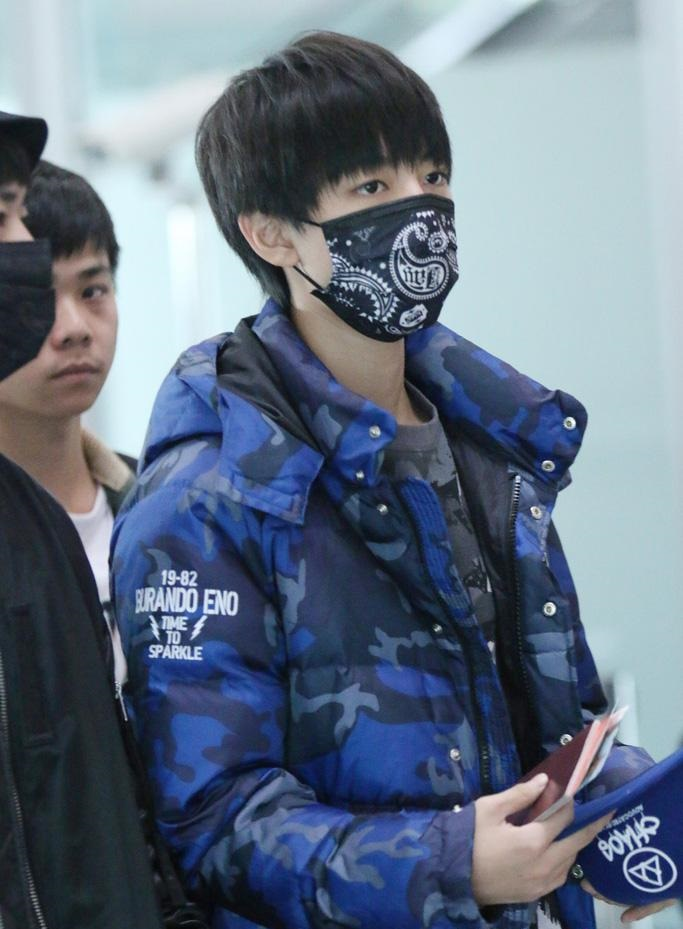face: (59, 250, 120, 424)
face_mask: (318, 164, 460, 343), (1, 175, 57, 381)
